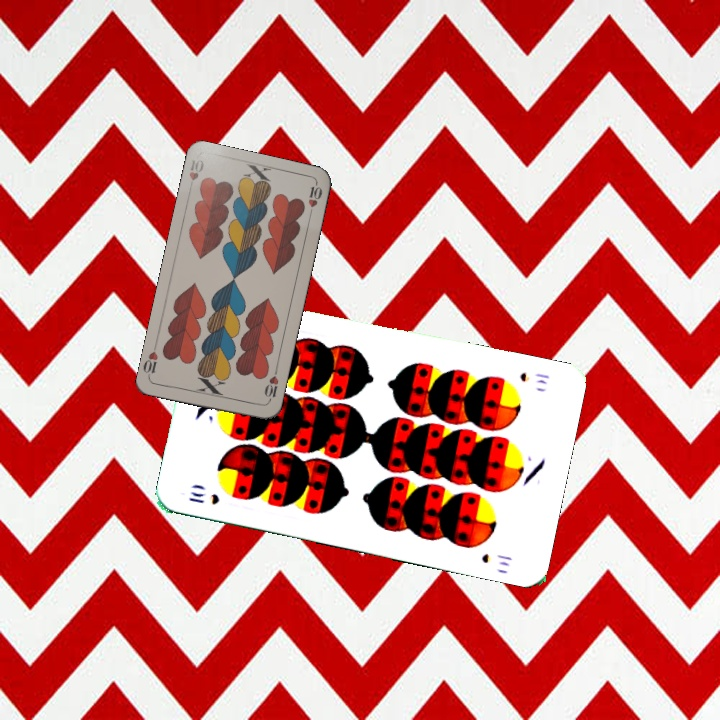H10: (184, 155, 207, 195), (260, 365, 281, 405)
S10: (184, 487, 222, 507), (516, 368, 552, 387)
